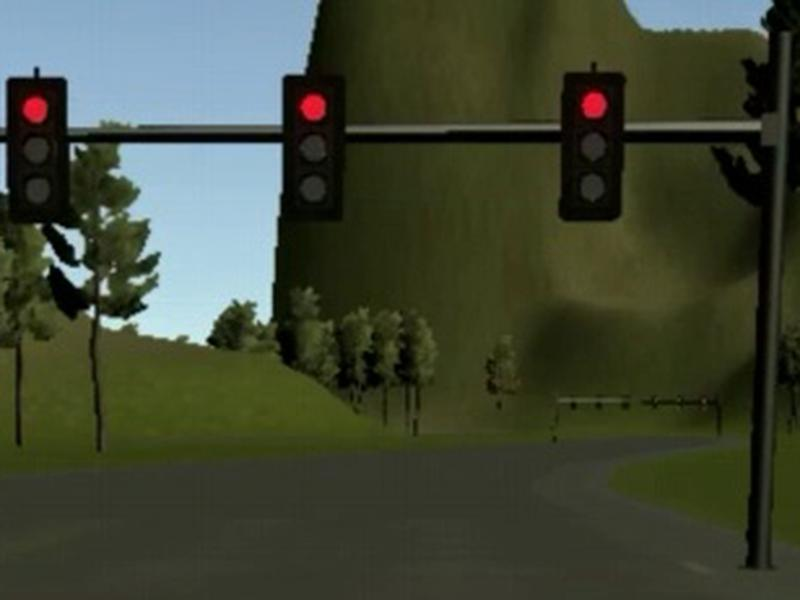Red: (558, 73, 626, 222), (280, 75, 347, 221), (6, 78, 67, 224)
